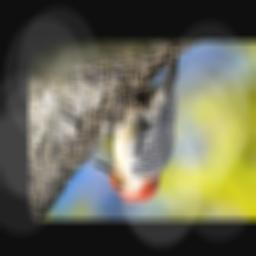Woodpecker: (86, 56, 179, 202)
